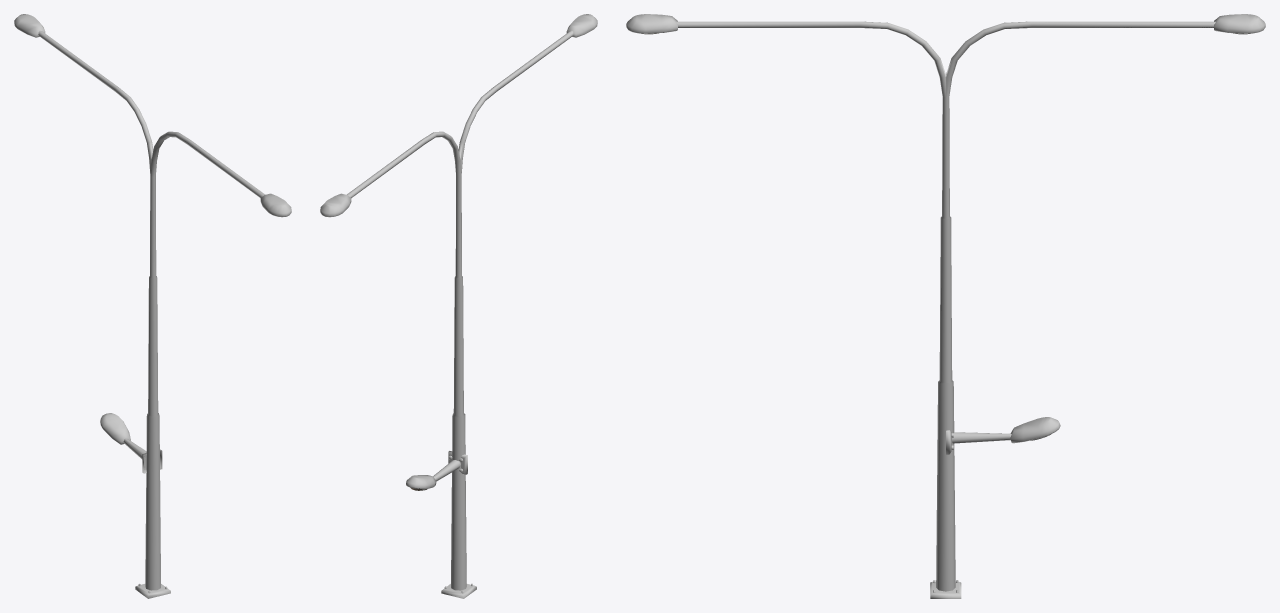
Rendered from street_lights_01b.fbx.
The picture shows the model from 3 angles, left to right: view 1: azimuth 30°, elevation 25°; view 2: azimuth 150°, elevation 25°; view 3: azimuth 270°, elevation 25°; orthographic projection. The views are drawn at different scales.
Parts seen in each view (by area): view 1: Mesh, Mesh_ncl1_1, Mesh_ncl1_2; view 2: Mesh_ncl1_1, Mesh, Mesh_ncl1_2; view 3: Mesh, Mesh_ncl1_1, Mesh_ncl1_2.
Boxes of the visible parts, x1,y1,x2,y2 form: Mesh: (17,14,291,598); Mesh_ncl1_1: (14,14,167,595); Mesh_ncl1_2: (100,413,162,473); Mesh_ncl1_1: (320,135,476,598); Mesh: (325,14,597,598); Mesh_ncl1_2: (406,451,467,490); Mesh: (626,14,1258,598); Mesh_ncl1_1: (930,14,1265,598); Mesh_ncl1_2: (946,417,1060,454).
Size of the model in its own units: 45 by 914 by 921.
